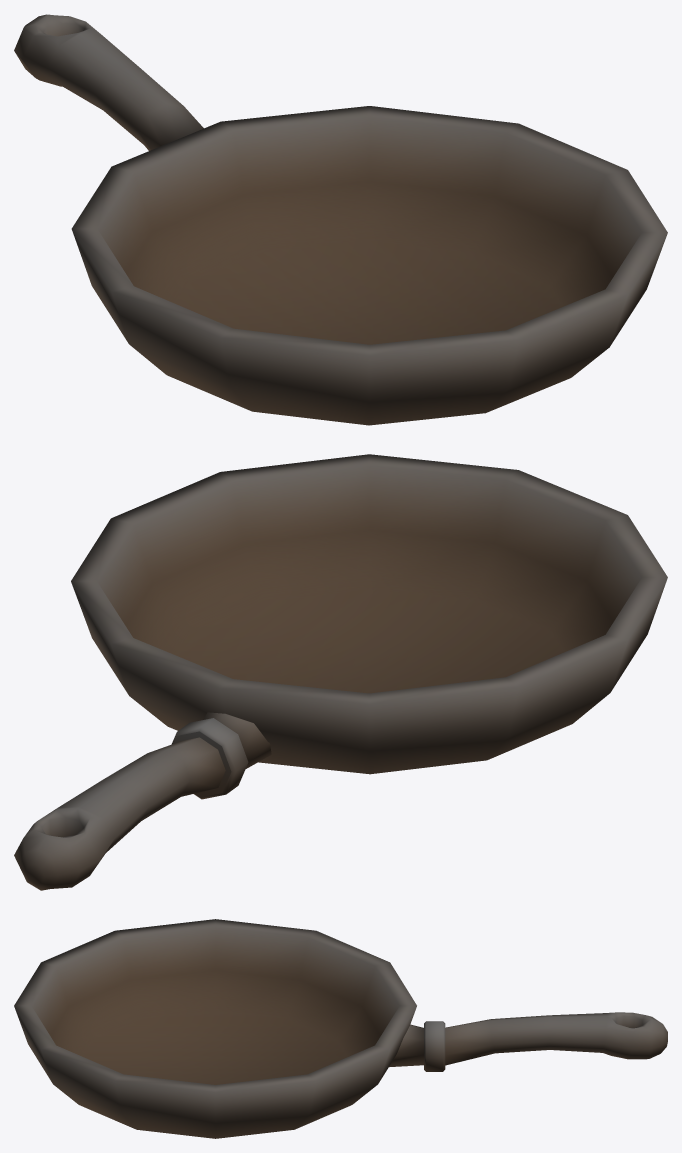
File: frying_pan.fbx
3 views of the same model, one above another, from view 1: azimuth 30°, elevation 25°; view 2: azimuth 150°, elevation 25°; view 3: azimuth 270°, elevation 25° (orthographic). The views are drawn at different scales.
Visible parts, largest first — view 1: Cylinder.001; view 2: Cylinder.001; view 3: Cylinder.001.
Part boxes in pixels (left/top/right/bottom): Cylinder.001: left=14, top=14, right=667, bottom=425; Cylinder.001: left=14, top=454, right=667, bottom=890; Cylinder.001: left=14, top=919, right=667, bottom=1138.
Size of the model in its own units: 255 by 54.22 by 414.
